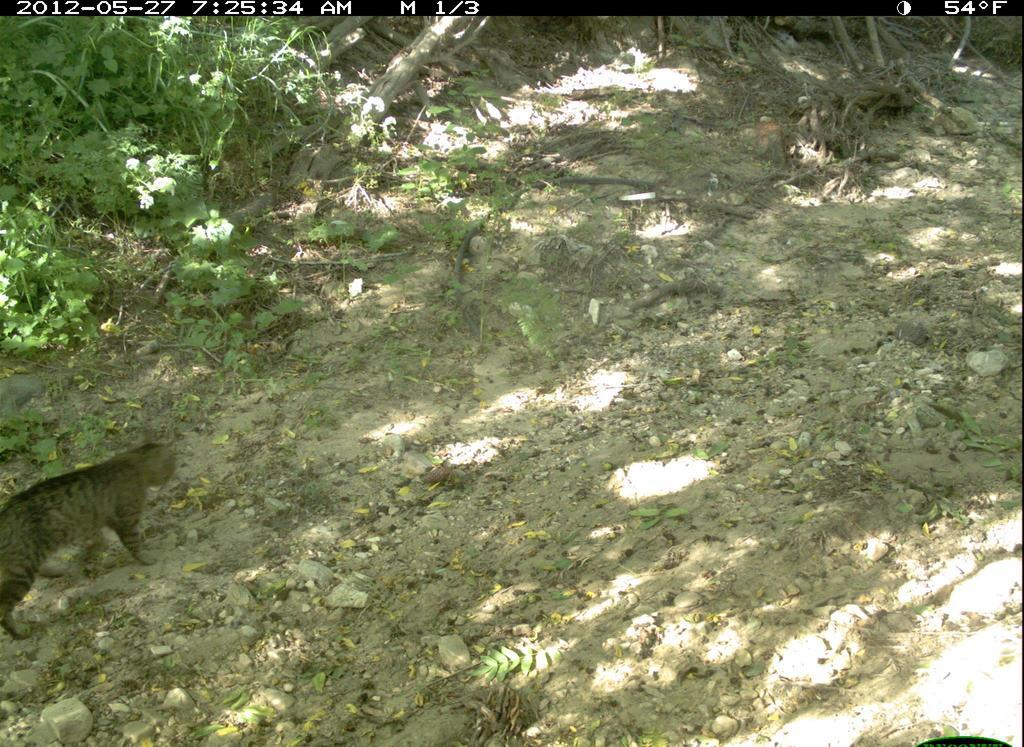cat: (1, 212, 601, 725)
